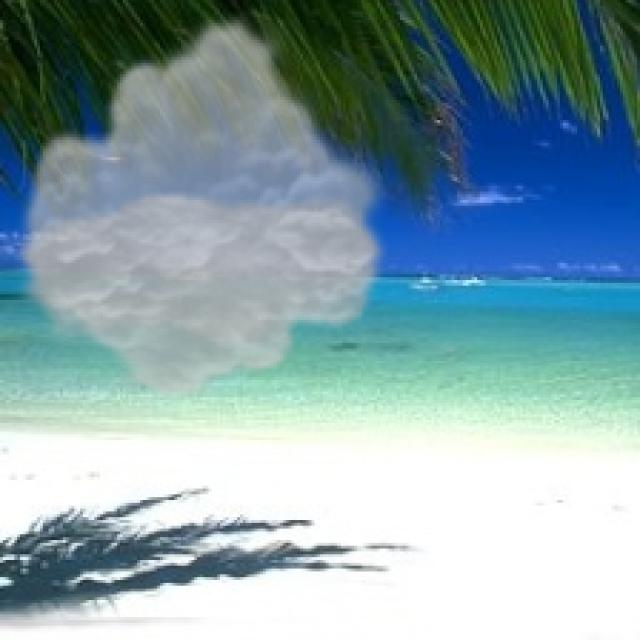smoke: (9, 11, 394, 403)
